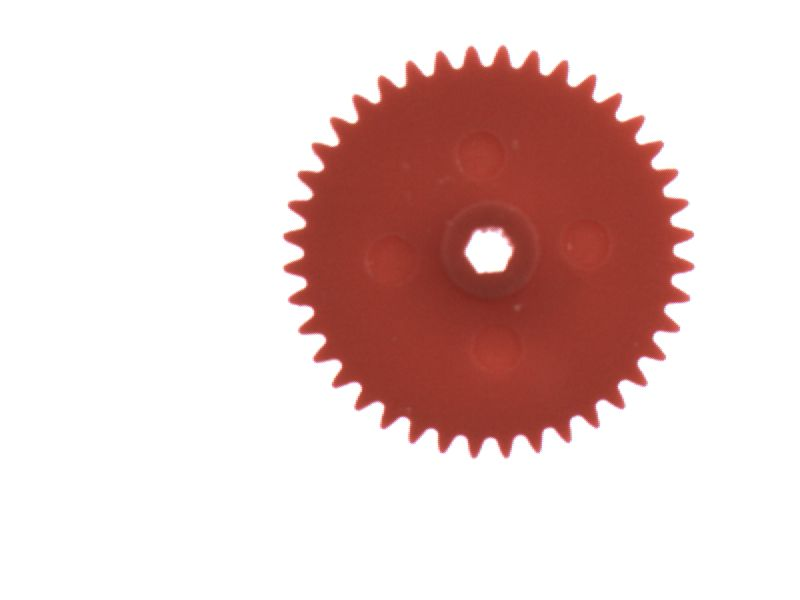good_product: (269, 33, 702, 470)
